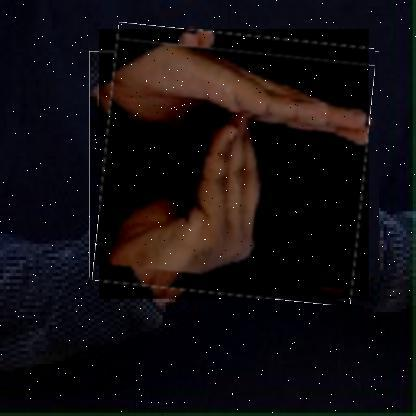Z: (99, 29, 370, 300)
